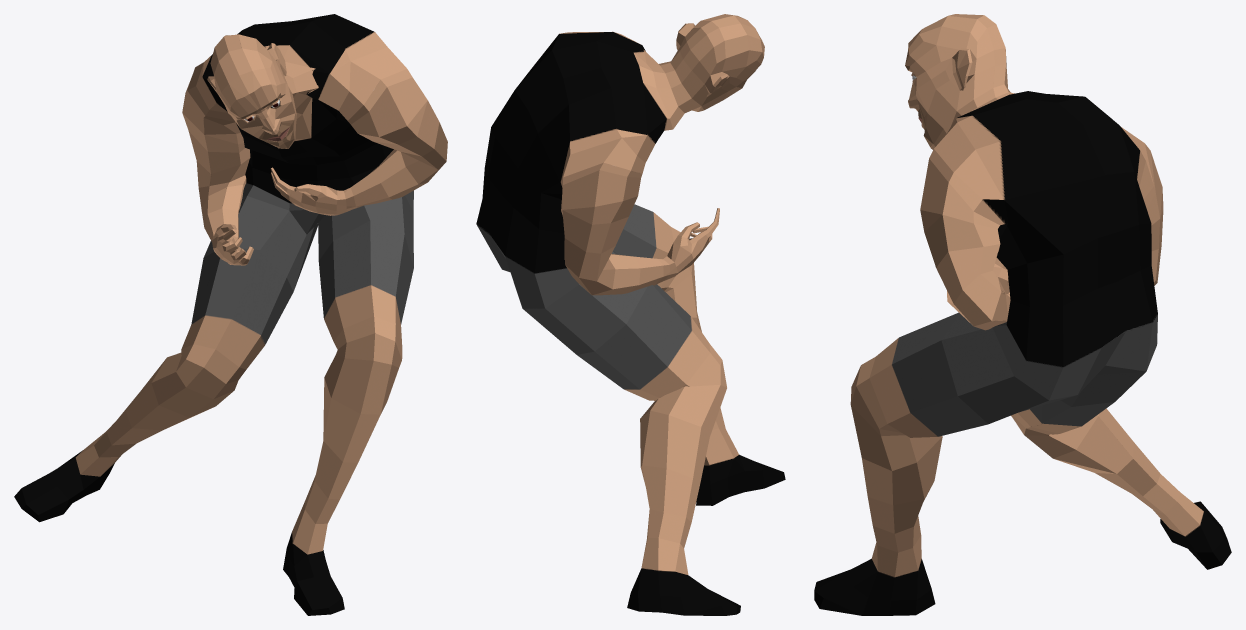
The model's file is PlayerDead(30).obj.
3 renders of one model, left to right at view 1: azimuth 30°, elevation 25°; view 2: azimuth 150°, elevation 25°; view 3: azimuth 270°, elevation 25°, orthographic. The views are drawn at different scales.
Visible parts, largest first — view 1: Plane002; view 2: Plane002; view 3: Plane002.
Boxes of the visible parts, bbox=[...] form: Plane002: bbox=[14, 14, 447, 615]; Plane002: bbox=[476, 14, 785, 615]; Plane002: bbox=[814, 14, 1231, 615].
Bounding box in the file's own units: 828 × 1299 × 855.
